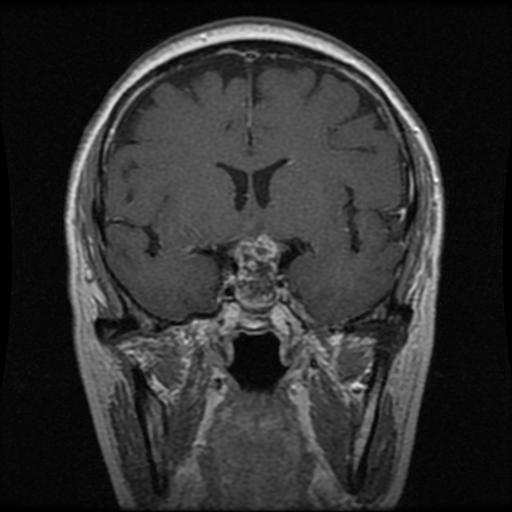Pituirity_tumour: (234, 237, 277, 307)
